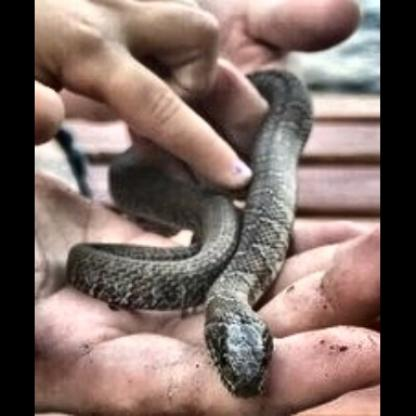Snake: (64, 69, 315, 400)
